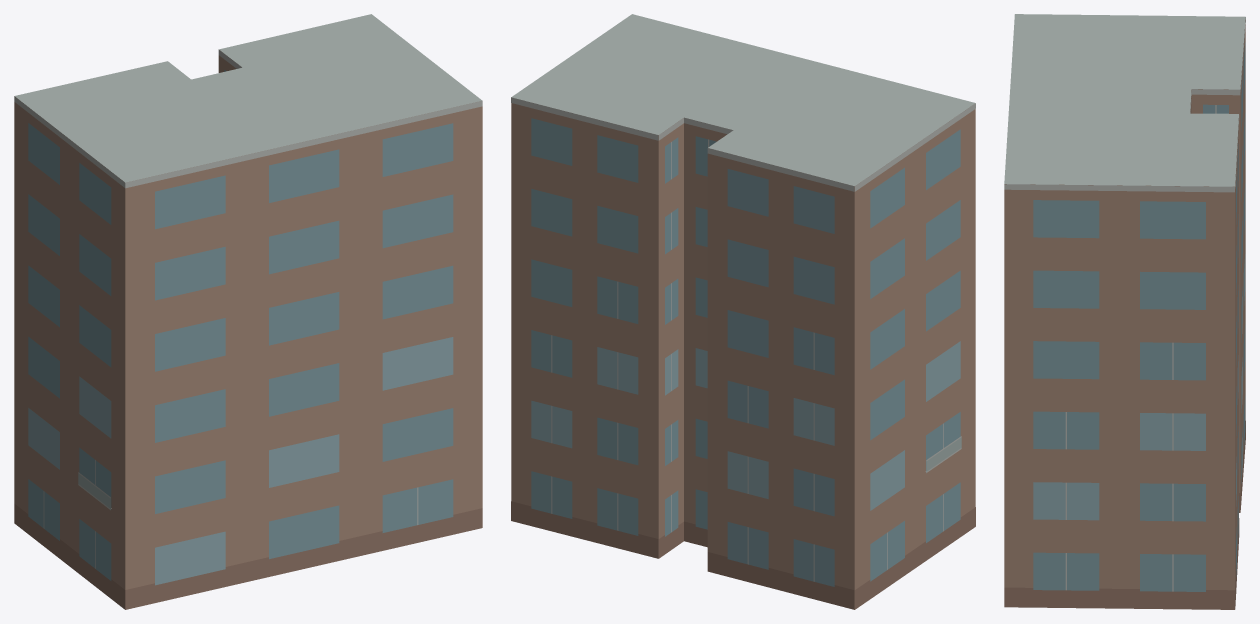
File: survey-upis-32654049.glb
The picture shows the model from 3 angles, left to right: view 1: azimuth 30°, elevation 25°; view 2: azimuth 150°, elevation 25°; view 3: azimuth 270°, elevation 25°; orthographic projection.
Visible parts, largest first — view 1: survey-upis-32654049.tmp; view 2: survey-upis-32654049.tmp; view 3: survey-upis-32654049.tmp.
Part boxes in pixels (left/top/right/bottom): survey-upis-32654049.tmp: left=14, top=14, right=482, bottom=609; survey-upis-32654049.tmp: left=511, top=14, right=975, bottom=609; survey-upis-32654049.tmp: left=1004, top=14, right=1245, bottom=609.
Size of the model in its own units: 16.04 by 18.3 by 9.47.
